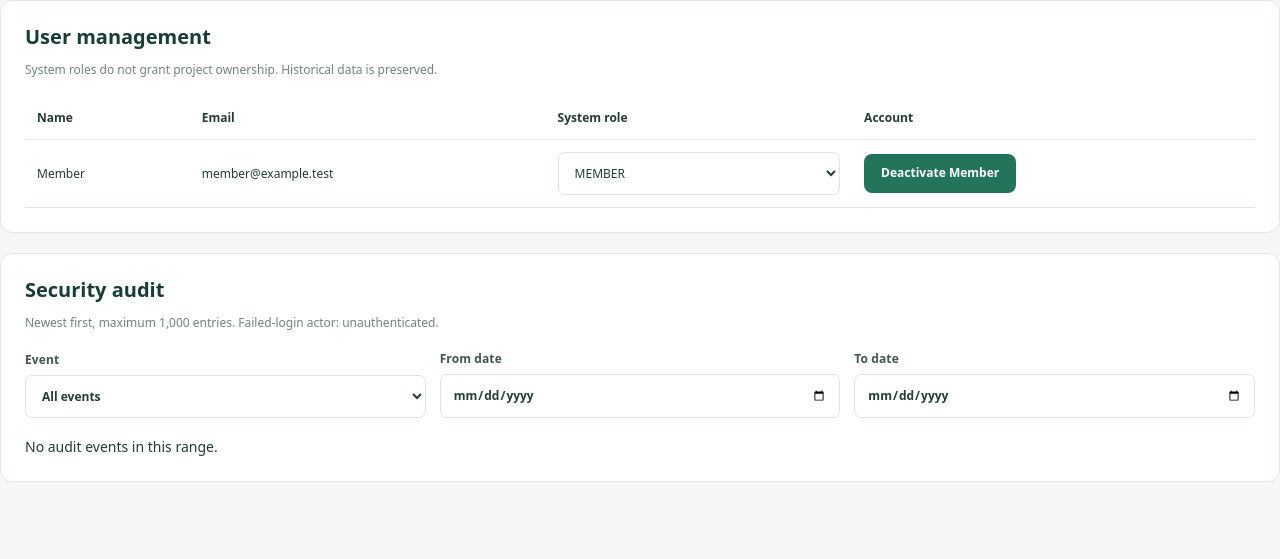
reports non-authenticated user update failures without ending the session
Select "OWNER" in the dropdown named "System role for Member" at [699, 174], box [558, 152, 840, 195]
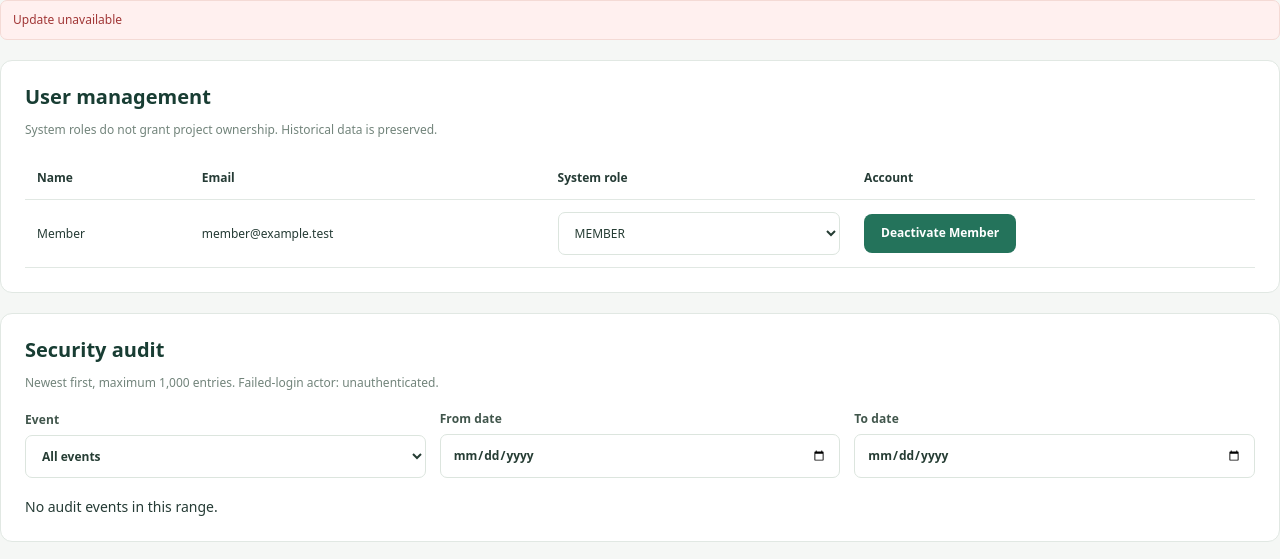
Check: the message reads "Update unavailable", box [13, 11, 122, 28]
